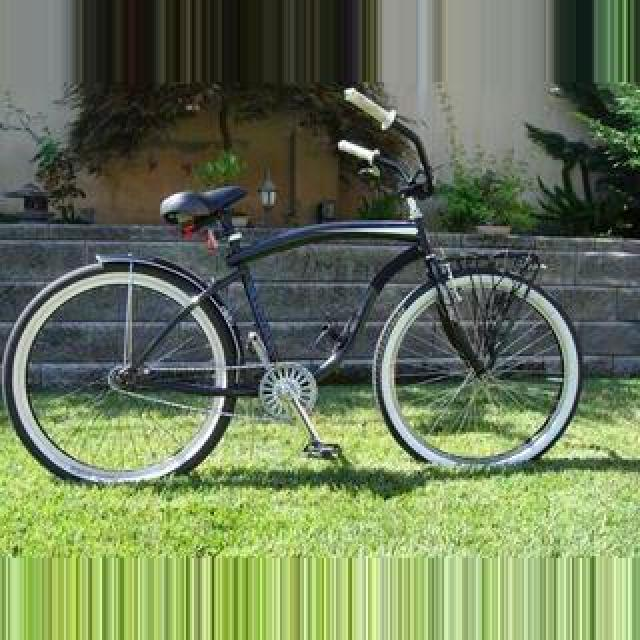Person: (2, 86, 582, 488)
